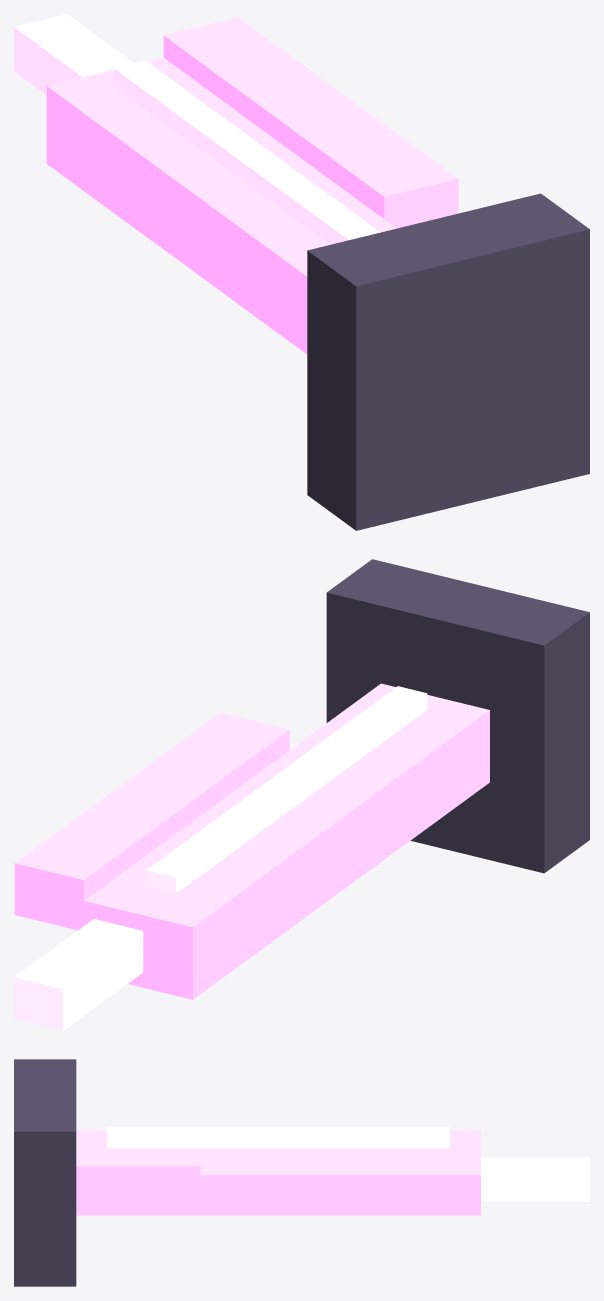
Rendered from interact_hazard_rift.glb.
The picture shows the model from 3 angles, top to bottom: view 1: azimuth 30°, elevation 25°; view 2: azimuth 150°, elevation 25°; view 3: azimuth 270°, elevation 25°; orthographic projection. The views are drawn at different scales.
Visible parts, largest first — view 1: interact_hazard_rift; view 2: interact_hazard_rift; view 3: interact_hazard_rift.
Part boxes in pixels (bbox=[...]): interact_hazard_rift: bbox=[14, 14, 589, 530]; interact_hazard_rift: bbox=[14, 559, 589, 1030]; interact_hazard_rift: bbox=[14, 1059, 589, 1286].
Size of the model in its own units: 1.17 by 1.1 by 3.7.
